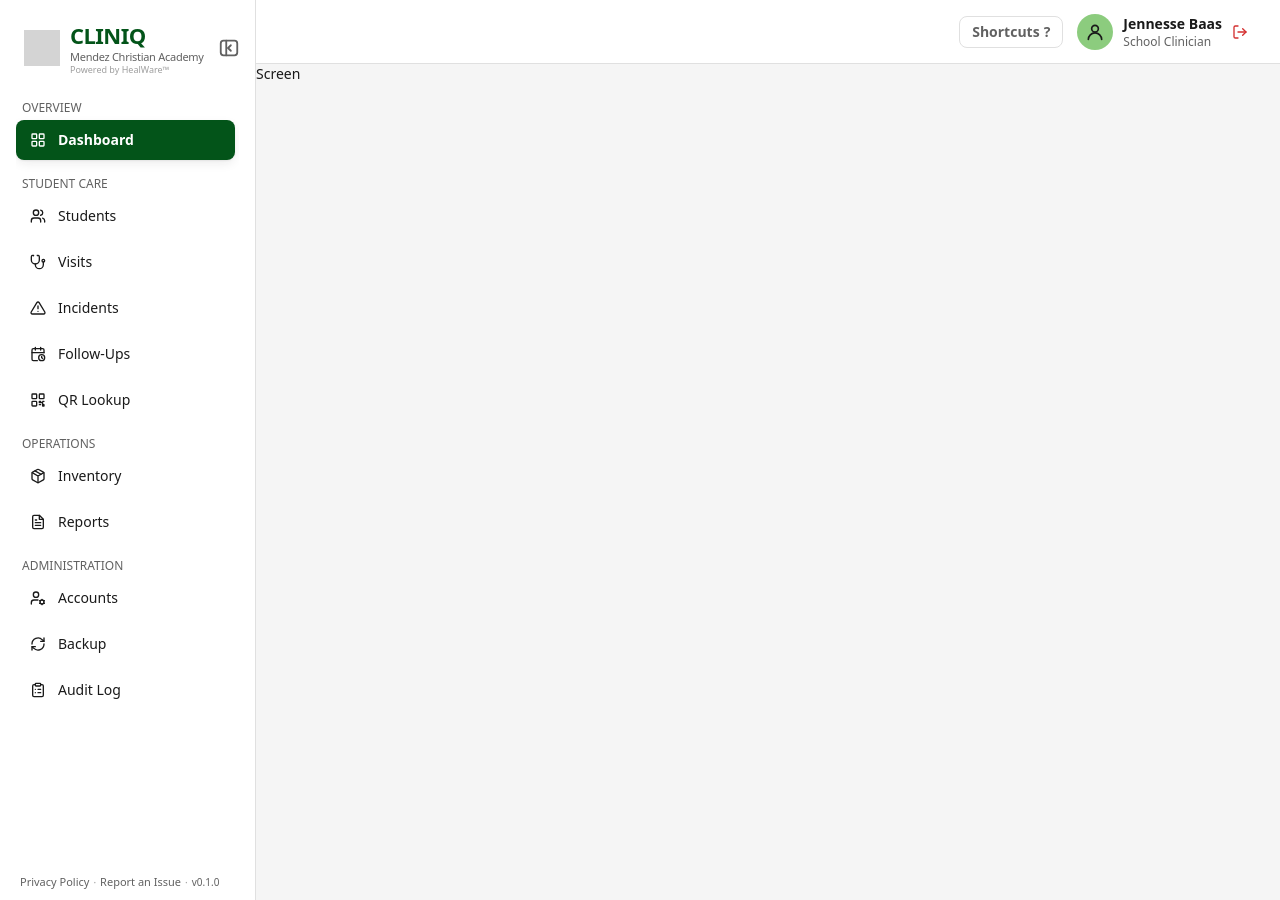
App Shell / Navigation › opens the Report an Issue modal from the footer
The image size is (1280, 900).
Click the button "Report an Issue": coordinates (141, 882) top-left (100, 872), bottom-right (181, 892)
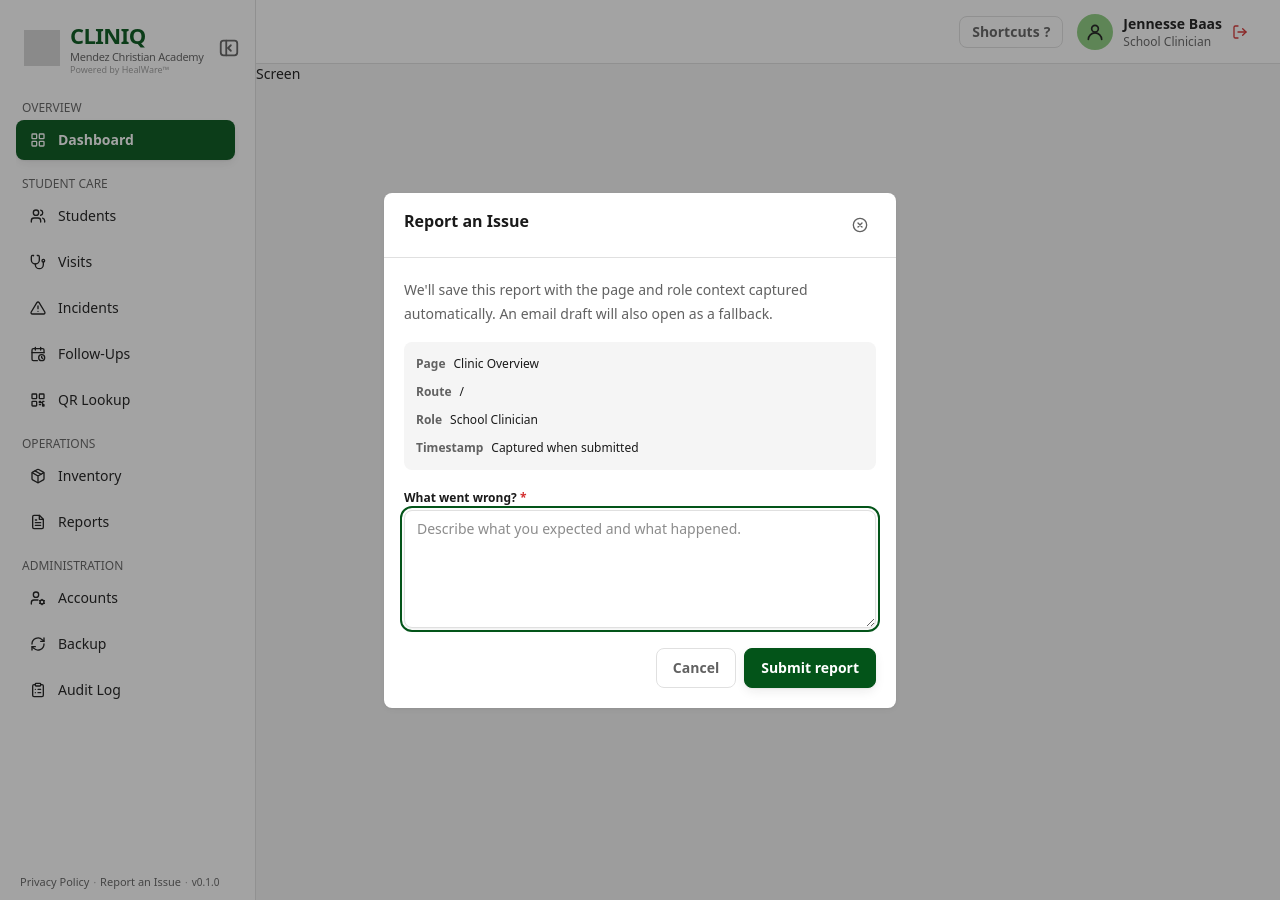
Result: the dialog "Report an Issue" is shown at top-left (384, 192), bottom-right (896, 708)
